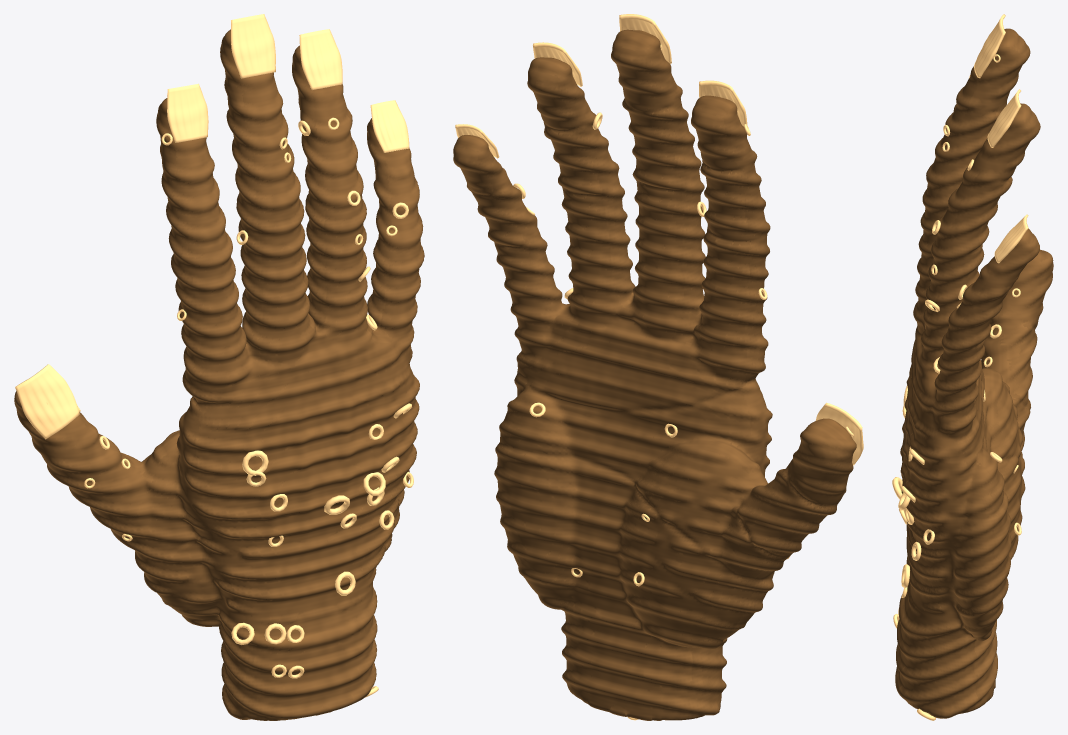
File: family-18.glb
3 views of the same model, side by side, from view 1: azimuth 30°, elevation 25°; view 2: azimuth 150°, elevation 25°; view 3: azimuth 270°, elevation 25° (orthographic). The views are drawn at different scales.
Visible parts, largest first — view 1: fingers__fingers_sculpt, back_of_hand__back_of_hand_sculpt, wrist__wrist_sculpt, fingertips__fingertips_sculpt, nails__thumb_claw, back_of_hand, nails__middle_claw, palm__palm_sculpt, nails__ring_claw, nails__index_claw, fingers, nails__pinky_claw (+1 smaller); view 2: fingers__fingers_sculpt, palm__palm_sculpt, wrist__wrist_sculpt, fingertips__fingertips_sculpt, nails__thumb_claw, nails__middle_claw, nails__index_claw, nails__ring_claw; view 3: fingers__fingers_sculpt, palm__palm_sculpt, wrist__wrist_sculpt, back_of_hand__back_of_hand_sculpt, fingertips__fingertips_sculpt, back_of_hand, nails__middle_claw, fingers, nails__ring_claw, nails__pinky_claw.
Boxes of the visible parts, left/top/right/bottom form: fingers__fingers_sculpt: left=43, top=90, right=424, bottom=599; back_of_hand__back_of_hand_sculpt: left=182, top=364, right=419, bottom=617; wrist__wrist_sculpt: left=172, top=566, right=377, bottom=720; fingertips__fingertips_sculpt: left=14, top=29, right=412, bottom=458; nails__thumb_claw: left=15, top=364, right=79, bottom=439; back_of_hand: left=242, top=403, right=413, bottom=595; nails__middle_claw: left=231, top=14, right=275, bottom=78; palm__palm_sculpt: left=161, top=410, right=404, bottom=610; nails__ring_claw: left=299, top=29, right=342, bottom=90; nails__index_claw: left=167, top=83, right=208, bottom=142; fingers: left=84, top=117, right=408, bottom=541; nails__pinky_claw: left=370, top=100, right=409, bottom=152; fingers__fingers_sculpt: left=467, top=83, right=846, bottom=624; palm__palm_sculpt: left=494, top=347, right=764, bottom=633; wrist__wrist_sculpt: left=527, top=581, right=736, bottom=720; fingertips__fingertips_sculpt: left=453, top=29, right=856, bottom=500; nails__thumb_claw: left=815, top=402, right=863, bottom=465; nails__middle_claw: left=619, top=14, right=671, bottom=63; nails__index_claw: left=699, top=80, right=747, bottom=126; nails__ring_claw: left=533, top=42, right=582, bottom=86; fingers__fingers_sculpt: left=911, top=81, right=1038, bottom=500; palm__palm_sculpt: left=949, top=360, right=1022, bottom=629; wrist__wrist_sculpt: left=895, top=573, right=1008, bottom=718; back_of_hand__back_of_hand_sculpt: left=900, top=364, right=951, bottom=617; fingertips__fingertips_sculpt: left=967, top=28, right=1053, bottom=320; back_of_hand: left=892, top=385, right=934, bottom=587; nails__middle_claw: left=974, top=14, right=1005, bottom=78; fingers: left=925, top=124, right=1001, bottom=373; nails__ring_claw: left=987, top=89, right=1021, bottom=147; nails__pinky_claw: left=994, top=214, right=1028, bottom=263.
Size of the model in its own units: 0.1337 by 0.2233 by 0.0494.
Materials: 2 (1 with a texture image).
